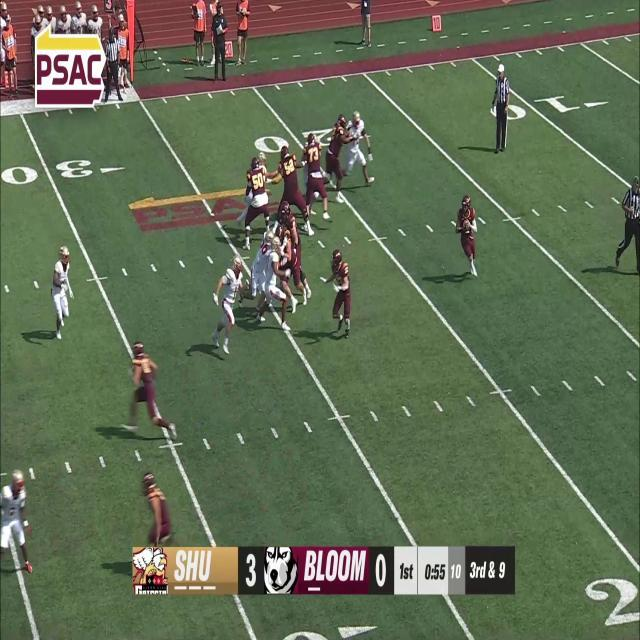football: (463, 219, 472, 235)
